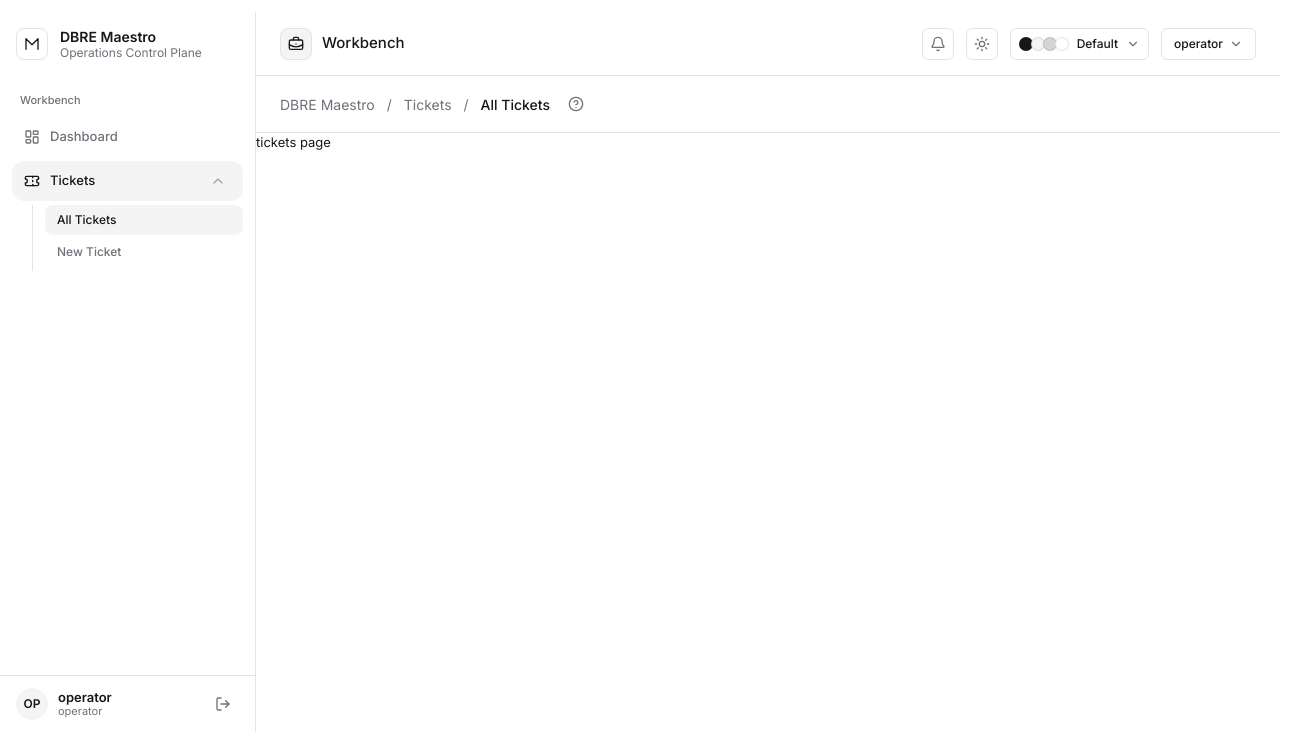
AppShell notifications › tickets breadcrumb 會顯示頁面說明 popover
Click the button named "Show All Tickets Guide" at [576, 104], box [562,90,590,118]
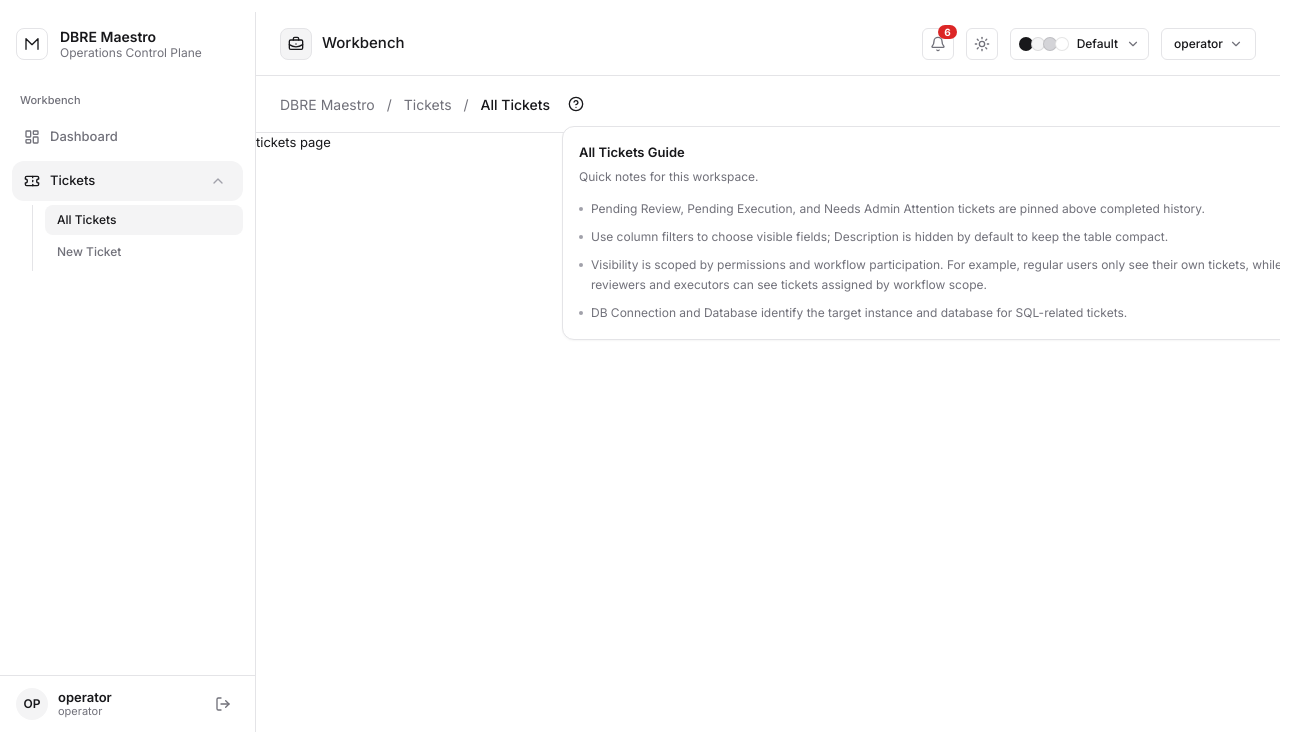
Expected: the text "All Tickets Guide" is shown, [579,144,685,160]
Expected: the text "Description is hidden by default" is shown, [591,228,1168,244]
